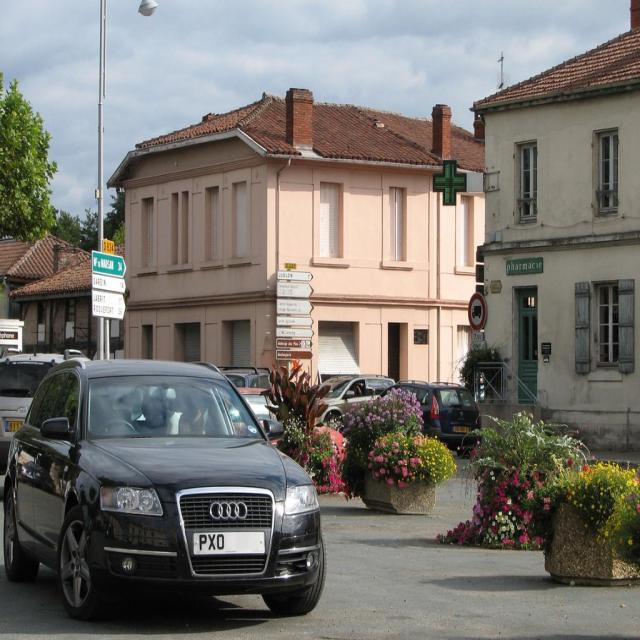car: (3, 368, 311, 618)
